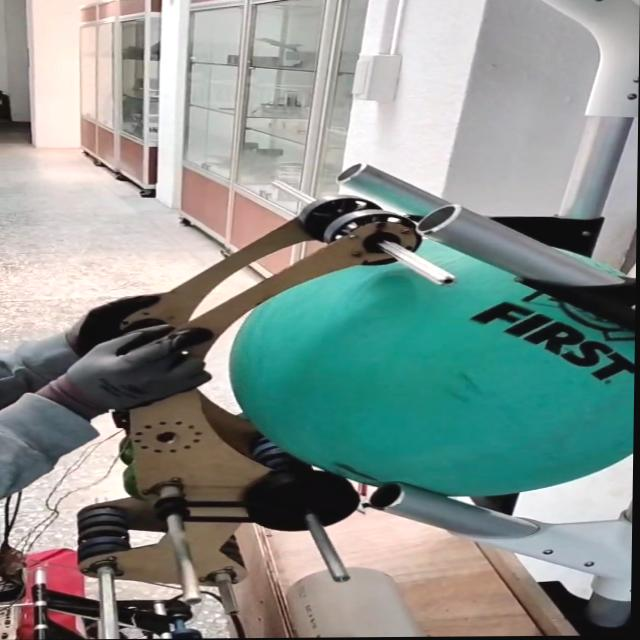ALGAE: (224, 233, 636, 496)
